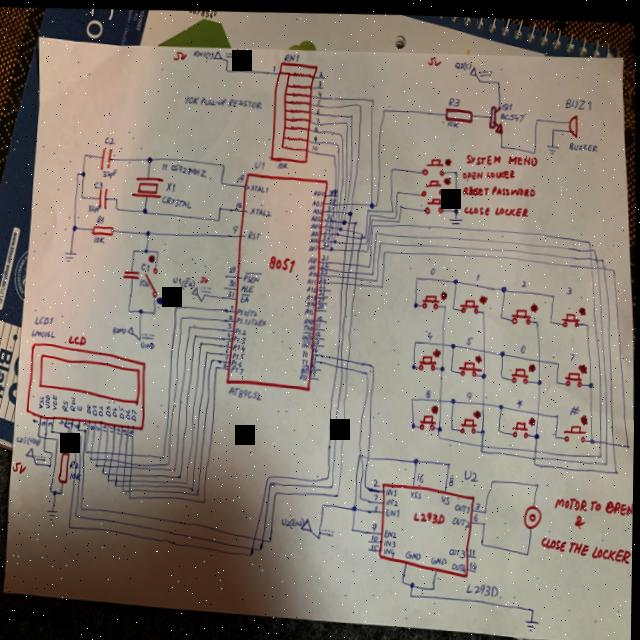capacitor: (99, 144, 111, 167), (121, 266, 140, 278), (98, 185, 107, 207)
crossover: (129, 449, 134, 455), (601, 259, 606, 265), (339, 352, 344, 358), (123, 449, 128, 455), (117, 449, 122, 455), (110, 448, 115, 454), (103, 447, 108, 453), (96, 447, 101, 453), (89, 447, 94, 453), (589, 258, 593, 265), (595, 258, 599, 265), (594, 249, 598, 256), (605, 434, 609, 440), (588, 249, 592, 255), (537, 352, 541, 358), (482, 343, 486, 349), (441, 337, 445, 343), (438, 393, 442, 399), (481, 396, 485, 402), (261, 534, 265, 540), (599, 433, 603, 439), (334, 359, 338, 365), (335, 351, 339, 357), (340, 265, 345, 269), (353, 266, 358, 270), (340, 270, 344, 275), (339, 276, 343, 281), (344, 224, 349, 228), (587, 241, 591, 246), (252, 533, 256, 538), (251, 542, 255, 547), (533, 443, 538, 447), (612, 436, 616, 441), (129, 470, 133, 475), (114, 475, 118, 480), (359, 449, 362, 455), (355, 259, 359, 263), (346, 266, 350, 270), (348, 258, 352, 262), (342, 258, 346, 262), (342, 244, 346, 248), (349, 244, 353, 248), (356, 244, 360, 248), (345, 271, 349, 275), (353, 272, 357, 276), (352, 278, 356, 282), (344, 277, 348, 281), (350, 237, 354, 241), (343, 237, 347, 241), (358, 237, 362, 241), (350, 225, 354, 229), (347, 217, 351, 221), (344, 230, 348, 234), (350, 231, 354, 235), (359, 232, 363, 236), (480, 438, 484, 442), (533, 450, 537, 454), (344, 362, 348, 366), (345, 355, 349, 359), (96, 455, 100, 459), (104, 455, 108, 459), (102, 461, 106, 465), (108, 462, 112, 466), (116, 462, 120, 466), (107, 469, 111, 473), (115, 470, 119, 474), (122, 470, 126, 474), (128, 476, 132, 480), (121, 477, 125, 481), (128, 481, 132, 485), (121, 481, 125, 485), (128, 486, 132, 490), (110, 455, 114, 459), (116, 457, 120, 461), (124, 458, 128, 462), (130, 459, 134, 463), (43, 434, 46, 438), (350, 198, 353, 202), (340, 361, 343, 365), (367, 452, 370, 456), (123, 463, 127, 466), (130, 463, 134, 466), (330, 222, 333, 225), (342, 198, 344, 202), (338, 198, 340, 202), (335, 198, 337, 202), (332, 199, 334, 203), (337, 205, 339, 209), (341, 206, 343, 210), (344, 207, 346, 211), (332, 206, 334, 210), (333, 190, 335, 194), (335, 189, 337, 193), (331, 215, 333, 219), (329, 236, 331, 240), (345, 199, 347, 202), (335, 206, 337, 209), (336, 216, 338, 219), (334, 216, 336, 219), (333, 223, 336, 225), (330, 228, 332, 231), (339, 217, 341, 219), (333, 229, 335, 231)
ground: (523, 613, 540, 626), (544, 137, 559, 151), (64, 248, 76, 261), (47, 508, 58, 519), (448, 212, 462, 220)
junction: (532, 427, 540, 435), (143, 226, 150, 235), (499, 279, 506, 288), (351, 500, 357, 508), (499, 345, 505, 353), (498, 397, 504, 405), (452, 272, 458, 280), (450, 337, 456, 345), (218, 175, 224, 183), (481, 514, 487, 522), (587, 375, 593, 383), (613, 462, 619, 470), (142, 244, 148, 252), (450, 392, 456, 400), (536, 373, 542, 381), (137, 305, 143, 312), (534, 476, 540, 483), (410, 577, 416, 584), (479, 423, 485, 430), (482, 504, 488, 511), (350, 522, 355, 530), (223, 64, 229, 70), (452, 185, 458, 191), (217, 201, 222, 208), (220, 159, 225, 166), (446, 456, 451, 463), (411, 418, 416, 425), (412, 297, 417, 304), (499, 368, 504, 375), (146, 154, 151, 161), (413, 453, 418, 460), (525, 545, 530, 551), (555, 355, 560, 361), (549, 122, 554, 128), (81, 150, 86, 156), (554, 374, 559, 380), (547, 313, 552, 319), (79, 192, 84, 198), (533, 111, 538, 117), (409, 588, 414, 594), (126, 305, 131, 311), (142, 205, 147, 211), (380, 104, 385, 110), (530, 601, 535, 607), (498, 138, 503, 144), (589, 431, 594, 437), (80, 169, 85, 175), (550, 288, 555, 294), (215, 213, 220, 219), (584, 317, 589, 323), (479, 443, 484, 449), (437, 421, 442, 427), (439, 361, 444, 367), (481, 368, 486, 374), (72, 223, 77, 229), (453, 203, 458, 209), (347, 206, 352, 212), (341, 215, 346, 221), (337, 222, 342, 228), (184, 476, 189, 482), (495, 74, 499, 81), (490, 473, 494, 480), (369, 198, 373, 205), (555, 407, 559, 413), (432, 580, 436, 586), (499, 309, 503, 315), (414, 271, 418, 277), (389, 161, 393, 167), (497, 423, 501, 429), (321, 499, 325, 505), (202, 495, 206, 501), (410, 392, 414, 398), (611, 261, 615, 267), (161, 452, 165, 458), (411, 360, 415, 366), (534, 314, 538, 320), (554, 428, 558, 434), (600, 252, 604, 258), (592, 241, 596, 247), (586, 234, 590, 240), (480, 536, 484, 542), (53, 487, 57, 493), (626, 437, 630, 443), (348, 109, 352, 115), (379, 279, 383, 285), (196, 488, 200, 494), (190, 483, 194, 489), (178, 471, 182, 477), (172, 463, 176, 469), (167, 458, 171, 464), (131, 246, 135, 251), (413, 335, 417, 340), (481, 305, 485, 310), (250, 548, 254, 553), (390, 204, 394, 209), (451, 301, 455, 306), (259, 543, 263, 548), (268, 535, 272, 540), (74, 511, 78, 516), (48, 461, 52, 466), (453, 165, 457, 170), (353, 216, 357, 221), (370, 360, 374, 365), (370, 267, 374, 272), (269, 478, 273, 483), (274, 487, 278, 492), (330, 480, 334, 485), (329, 243, 333, 248), (67, 523, 71, 527), (114, 481, 118, 485), (533, 456, 537, 460), (438, 430, 442, 434), (449, 363, 453, 367), (401, 575, 405, 579), (79, 504, 83, 508), (84, 426, 88, 430), (209, 356, 213, 360), (477, 74, 481, 78), (598, 448, 602, 452), (604, 455, 608, 459), (338, 129, 342, 133), (365, 367, 369, 371), (335, 489, 339, 493), (224, 56, 228, 60), (395, 186, 398, 191), (398, 199, 401, 204), (443, 299, 446, 304), (95, 461, 98, 466), (370, 93, 373, 98), (358, 99, 361, 104), (345, 117, 348, 122), (367, 259, 370, 264), (267, 472, 270, 477), (114, 195, 117, 199), (205, 348, 208, 352), (114, 204, 117, 208), (174, 303, 177, 307), (138, 335, 141, 339), (393, 210, 396, 214), (317, 532, 320, 536), (60, 489, 63, 493), (55, 436, 58, 440), (50, 449, 53, 453), (50, 428, 53, 432), (66, 430, 69, 434), (89, 455, 92, 459), (128, 493, 131, 497), (188, 322, 191, 326), (194, 331, 197, 335), (199, 338, 202, 342), (214, 362, 217, 366), (366, 204, 369, 208), (365, 244, 368, 248), (382, 246, 385, 250), (531, 145, 534, 149), (335, 138, 338, 142), (332, 149, 335, 153), (374, 274, 377, 278), (155, 248, 158, 252), (326, 472, 329, 476), (450, 423, 453, 427), (335, 228, 338, 232), (333, 235, 336, 239), (77, 426, 80, 430), (64, 421, 66, 426), (374, 226, 376, 231), (200, 295, 202, 299), (180, 313, 182, 317), (153, 308, 155, 312), (397, 215, 399, 219), (49, 487, 51, 491), (43, 447, 45, 451), (35, 460, 37, 464), (37, 432, 39, 436), (79, 432, 81, 436), (67, 429, 69, 433), (102, 469, 104, 473), (107, 476, 109, 480), (122, 488, 124, 492), (76, 170, 78, 174), (374, 199, 376, 203), (371, 213, 373, 217), (379, 237, 381, 241), (363, 231, 365, 235), (364, 237, 366, 241), (358, 449, 360, 453), (364, 481, 366, 485), (359, 492, 361, 496), (203, 290, 205, 293), (75, 434, 77, 437), (70, 429, 72, 432), (68, 424, 70, 427), (85, 448, 87, 451), (369, 209, 371, 212), (371, 220, 373, 223), (359, 228, 361, 231)
resistor: (443, 101, 471, 118), (57, 449, 70, 482), (90, 222, 113, 234)
switch: (143, 263, 158, 295), (419, 174, 444, 192), (563, 419, 587, 437), (420, 153, 443, 171), (458, 355, 482, 372), (510, 303, 532, 320), (511, 415, 529, 434), (459, 293, 479, 310), (423, 193, 443, 210), (560, 306, 580, 322), (418, 350, 436, 367), (564, 366, 582, 382), (459, 413, 477, 429), (421, 289, 439, 305), (510, 362, 528, 378), (419, 410, 436, 426)
terminal: (300, 513, 312, 527), (211, 47, 221, 57), (25, 446, 34, 456), (468, 61, 476, 71), (191, 283, 198, 292), (127, 324, 133, 333)
text: (541, 529, 631, 561), (554, 489, 634, 512), (182, 89, 262, 108), (465, 148, 537, 163), (462, 179, 534, 192), (463, 200, 527, 213), (161, 160, 207, 176), (461, 162, 513, 176), (227, 382, 262, 398), (466, 576, 499, 592), (267, 251, 296, 269), (161, 192, 191, 207), (413, 506, 445, 520), (567, 135, 598, 148), (564, 90, 590, 105), (281, 512, 305, 526), (172, 273, 194, 288), (30, 326, 55, 339), (236, 313, 266, 323), (248, 202, 271, 215), (16, 434, 40, 445), (448, 541, 468, 554), (249, 179, 268, 192), (499, 107, 523, 117), (242, 268, 262, 280), (34, 313, 54, 325), (453, 497, 470, 510), (192, 46, 212, 57), (452, 511, 470, 523), (68, 332, 86, 344), (463, 464, 478, 478), (453, 55, 471, 66), (235, 304, 257, 313), (574, 508, 586, 524), (451, 557, 466, 569), (405, 545, 421, 556), (101, 166, 117, 177), (246, 226, 260, 238), (13, 460, 27, 472), (426, 51, 440, 63), (282, 49, 298, 59), (384, 542, 396, 554), (385, 503, 399, 513), (232, 340, 246, 350), (229, 362, 243, 372), (240, 281, 255, 290), (441, 489, 451, 502), (384, 524, 397, 534), (172, 48, 185, 58), (431, 552, 447, 560), (140, 338, 154, 347), (569, 399, 579, 411), (447, 92, 459, 102), (235, 169, 244, 182), (231, 349, 245, 357), (87, 203, 101, 211), (164, 179, 174, 190), (301, 335, 311, 346), (386, 493, 398, 502), (112, 324, 125, 332), (233, 324, 246, 332), (233, 332, 246, 340), (51, 391, 57, 408), (240, 290, 250, 300), (69, 457, 79, 467), (253, 157, 264, 166), (93, 233, 104, 242), (301, 327, 312, 336), (230, 356, 242, 364), (417, 467, 425, 479), (410, 486, 422, 494), (384, 535, 396, 543), (69, 470, 81, 478), (446, 115, 458, 123), (44, 392, 50, 407), (70, 394, 76, 409), (140, 260, 149, 270), (234, 196, 242, 207), (515, 392, 523, 403), (103, 134, 114, 142), (138, 276, 149, 284), (500, 97, 511, 105), (276, 158, 287, 166), (118, 403, 124, 417), (230, 220, 238, 230), (386, 484, 396, 492), (469, 556, 477, 566), (305, 281, 315, 289), (305, 296, 315, 304), (303, 313, 313, 321), (327, 184, 337, 192), (38, 394, 44, 407), (131, 406, 137, 419), (424, 383, 431, 394), (311, 196, 322, 203), (309, 219, 320, 226), (199, 273, 208, 281), (299, 368, 308, 376), (373, 474, 381, 483), (62, 398, 68, 410), (91, 402, 97, 414), (105, 403, 111, 415), (112, 404, 118, 416), (95, 213, 103, 222), (312, 186, 324, 192), (300, 360, 308, 369), (371, 518, 378, 528), (519, 338, 526, 348), (310, 211, 320, 218), (307, 241, 317, 248), (307, 253, 317, 260), (305, 274, 315, 281), (303, 320, 313, 327), (448, 471, 454, 482), (307, 267, 318, 273), (228, 263, 236, 271), (227, 276, 235, 284), (465, 332, 473, 340), (318, 272, 326, 280), (321, 237, 329, 245), (325, 210, 333, 218), (321, 230, 330, 237), (569, 347, 575, 357), (98, 403, 103, 415), (125, 406, 130, 418), (312, 204, 322, 210), (310, 227, 320, 233), (308, 233, 318, 239), (305, 290, 315, 296), (304, 304, 314, 310), (227, 287, 234, 295), (371, 540, 379, 547), (93, 180, 101, 187), (301, 346, 308, 354), (317, 286, 325, 293), (320, 258, 328, 265), (320, 250, 328, 257), (322, 223, 330, 230), (323, 216, 331, 223), (565, 280, 571, 289), (427, 327, 433, 336), (466, 387, 472, 396), (474, 496, 480, 505), (473, 507, 478, 517), (86, 402, 91, 412), (371, 530, 378, 537), (316, 299, 323, 306), (429, 263, 435, 271), (521, 275, 527, 283), (469, 543, 475, 551), (308, 261, 316, 267), (313, 334, 319, 342), (317, 279, 325, 285), (319, 265, 327, 271), (326, 202, 334, 208), (327, 194, 335, 200), (128, 426, 133, 435), (475, 267, 480, 276), (76, 402, 82, 409), (95, 423, 101, 430), (311, 351, 318, 357), (312, 343, 318, 350), (314, 327, 320, 334), (317, 293, 324, 299), (116, 425, 121, 433), (225, 337, 231, 343), (309, 366, 315, 372), (58, 417, 64, 423), (83, 420, 89, 426), (315, 95, 321, 101), (311, 141, 317, 147), (301, 355, 307, 361), (316, 311, 322, 317), (270, 62, 275, 69), (109, 423, 114, 430), (315, 318, 320, 325), (312, 131, 316, 139), (374, 501, 378, 509), (103, 422, 107, 430), (73, 420, 78, 426), (226, 320, 231, 326), (47, 420, 52, 426), (317, 67, 322, 73), (310, 358, 315, 364), (374, 490, 378, 497), (67, 418, 71, 425), (317, 86, 321, 93), (228, 312, 233, 317), (316, 77, 320, 83), (315, 113, 319, 119), (227, 329, 231, 335), (225, 345, 229, 351), (224, 352, 228, 358), (222, 359, 226, 365), (32, 417, 38, 421), (41, 419, 45, 425), (123, 427, 127, 433), (313, 123, 317, 129), (315, 104, 318, 110), (230, 301, 233, 307), (90, 423, 94, 427)
transistor: (486, 100, 503, 129)
